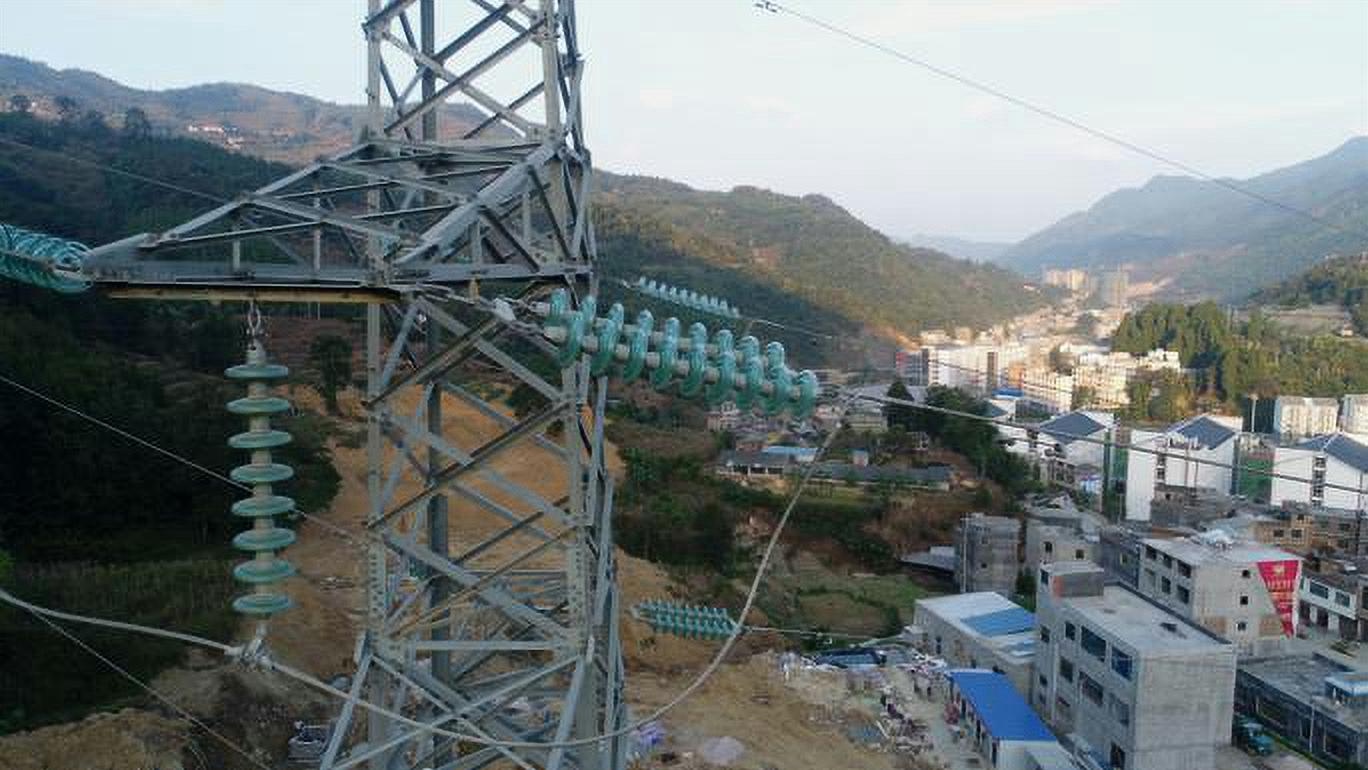insulator: (541, 285, 821, 423), (220, 355, 300, 624), (1, 216, 106, 298), (632, 272, 744, 329), (639, 594, 737, 643)
